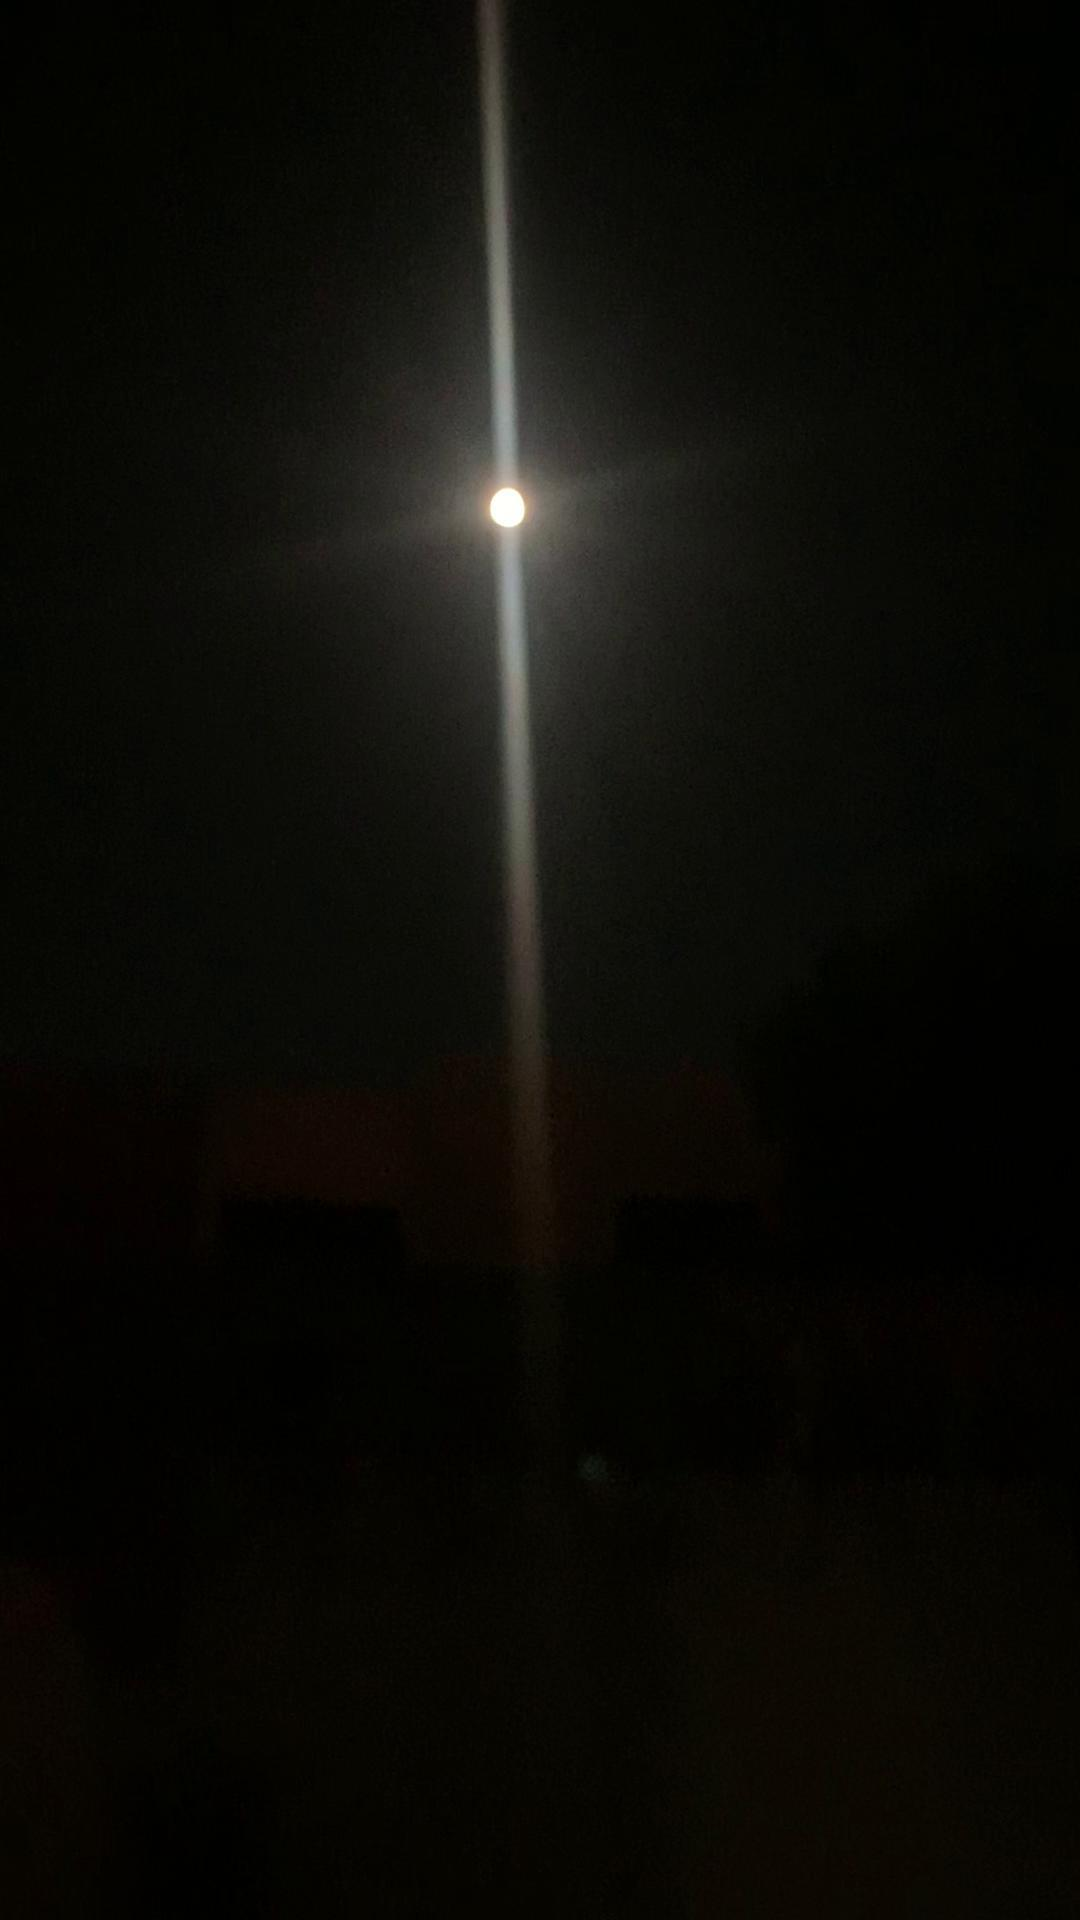moon: (458, 455, 566, 554)
